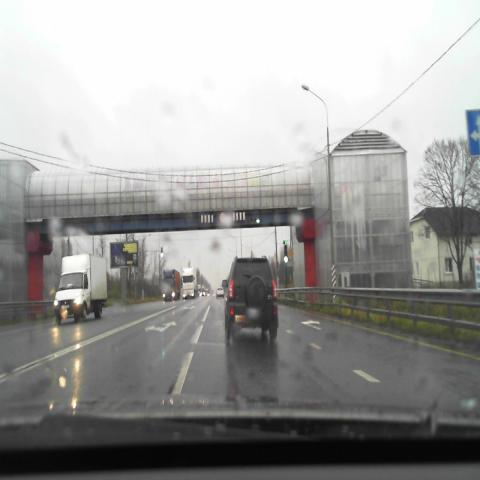5_15_1: (466, 110, 480, 157)
